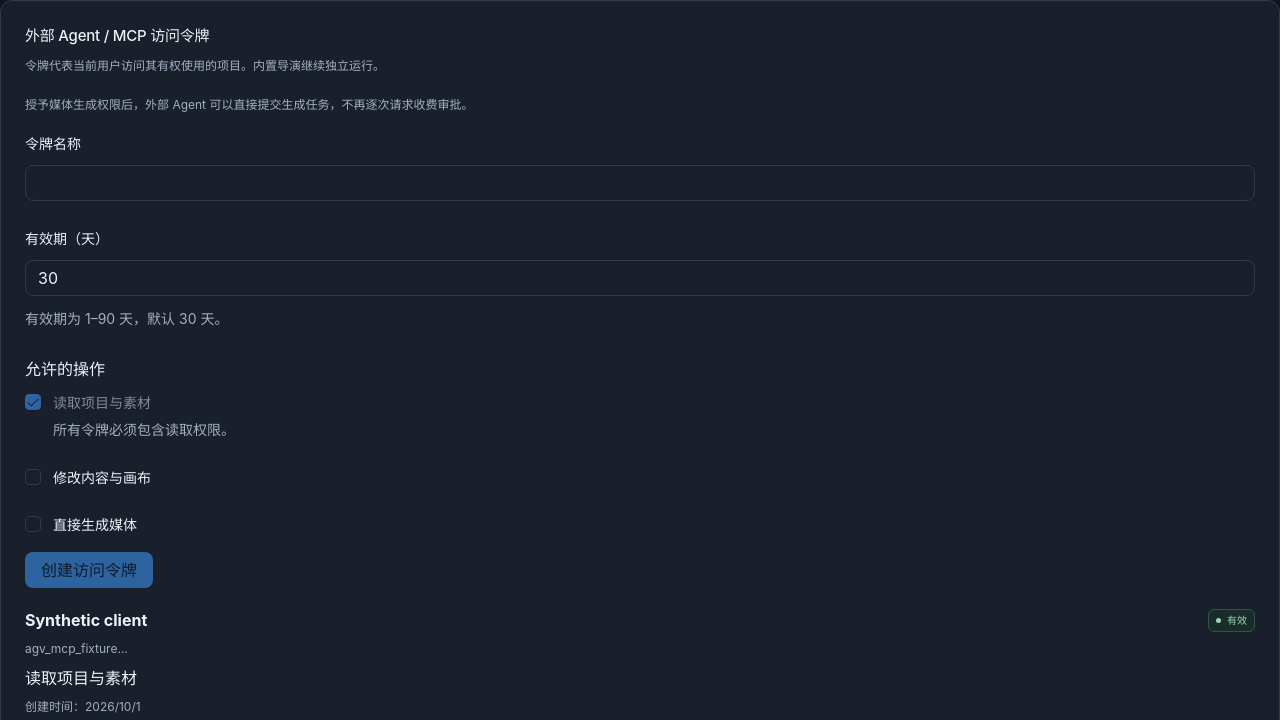
Test: McpTokensSection › rechecks a conflicting revocation and submits the refreshed version while preserving another draft
The width and height of the screenshot is (1280, 720).
Check: the text "Synthetic client" is shown, box [25,608,147,632]
Type "Unsent client" into the field labelled "令牌名称" at point(640, 183), box [25,165,1255,201]
(page scrolled)
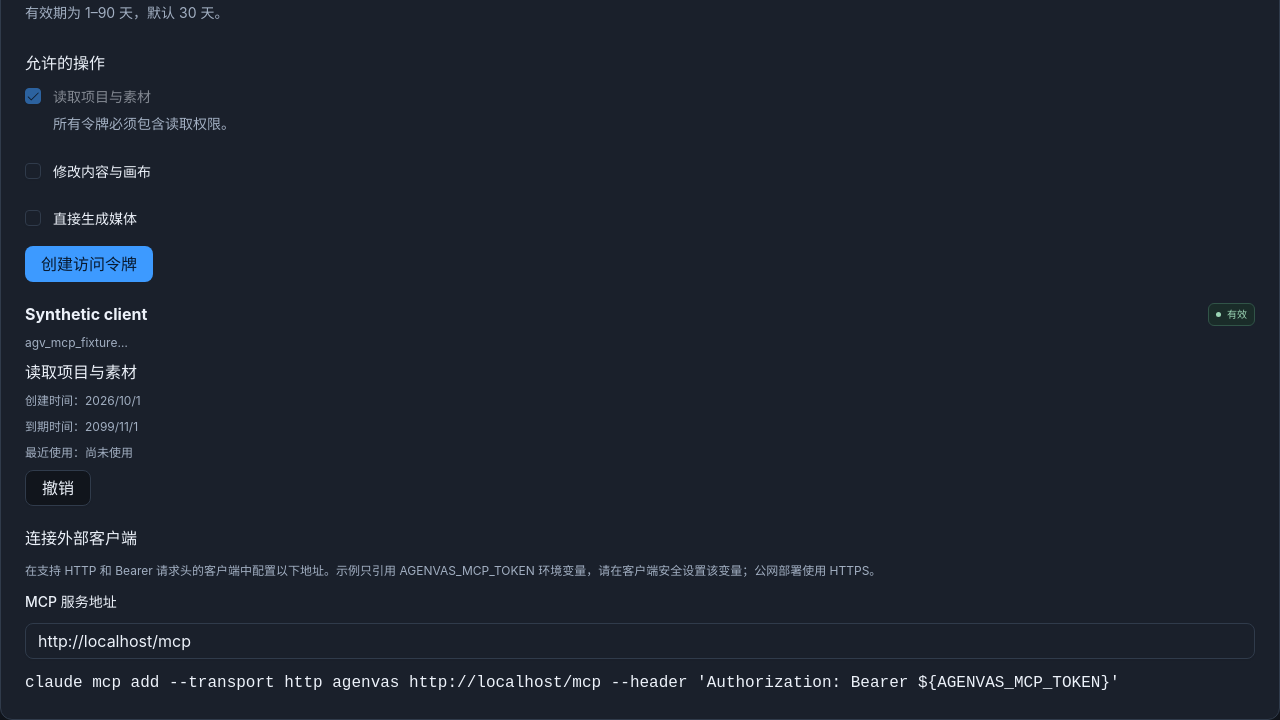
Click the button with aria-label "撤销令牌 Synthetic client" at point(58, 488), box [25,470,91,506]
(page scrolled)
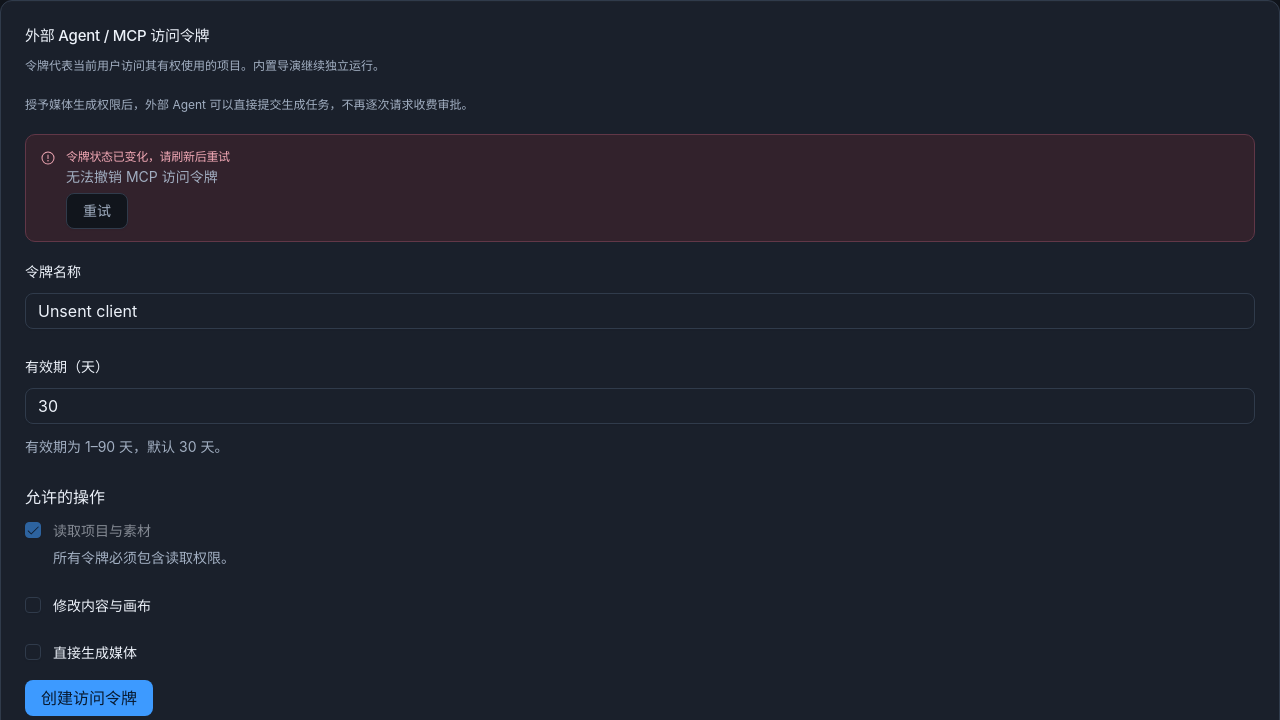
Check: the text "令牌状态已变化，请刷新后重试" is shown, box [66,147,230,166]
Click the button "重试" at point(97, 211), box [66,193,128,229]
(page scrolled)
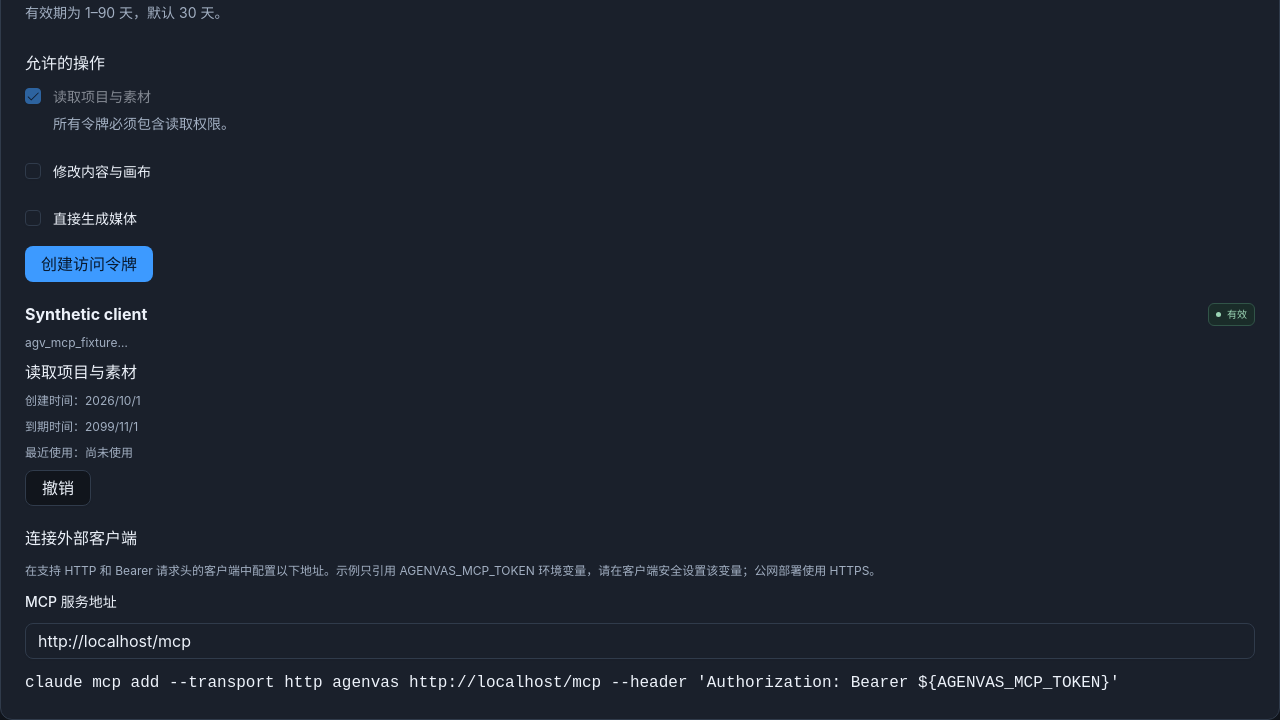
Check: the text "令牌状态已变化，请刷新后重试" is gone
Click the button with aria-label "撤销令牌 Synthetic client" at point(58, 488), box [25,470,91,506]
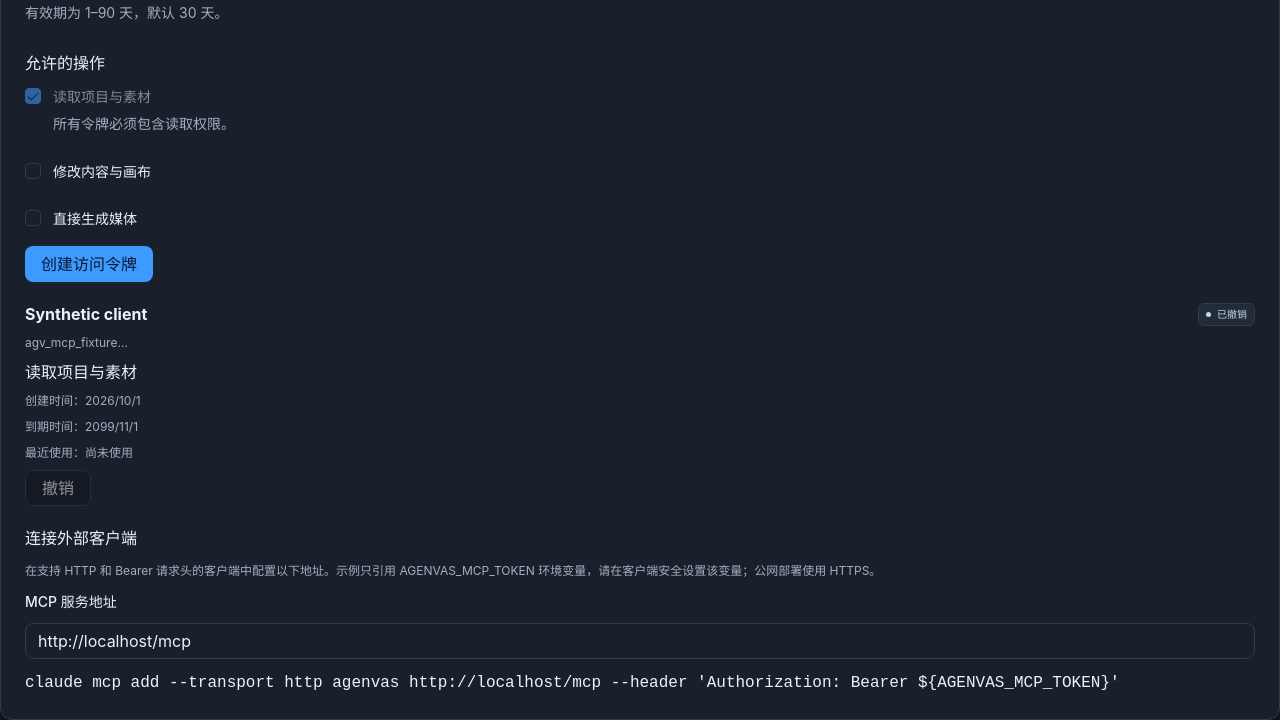
Check: the text "已撤销" is shown, box [1198,303,1255,326]
Check: the button with aria-label "撤销令牌 Synthetic client" is disabled, box [25,470,91,506]
